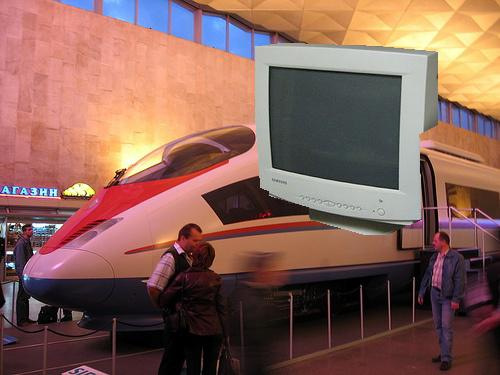tampered: (256, 44, 438, 235)
